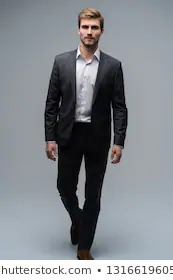F_dress pants: (54, 120, 110, 254)
